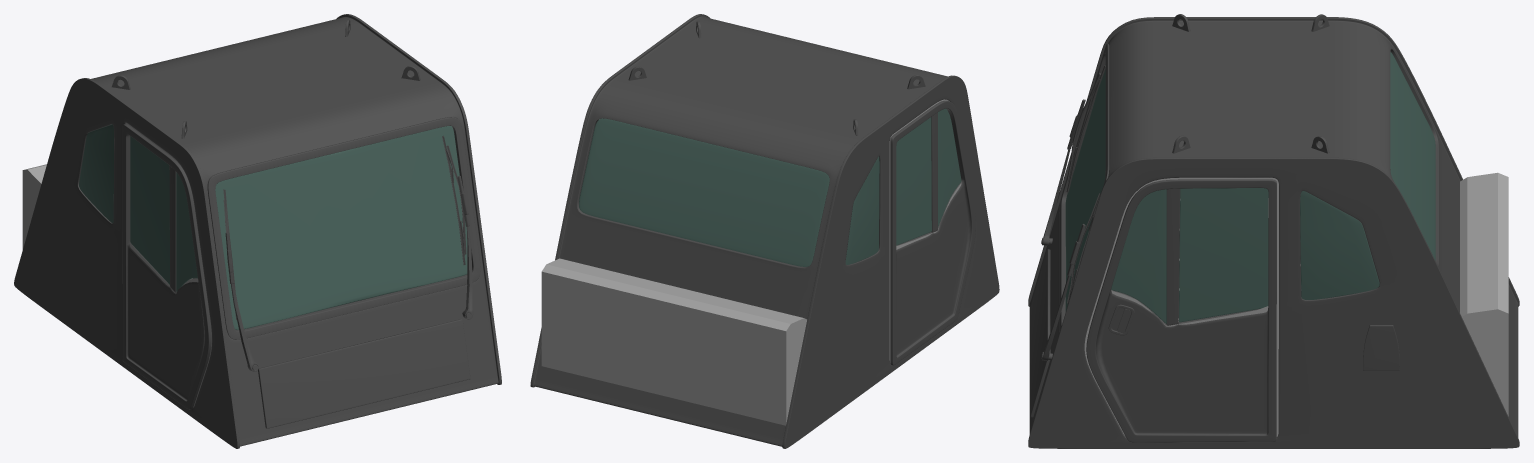
File: Caterpillar_793-F_Cabina.glb
3 views of the same model, side by side, from view 1: azimuth 30°, elevation 25°; view 2: azimuth 150°, elevation 25°; view 3: azimuth 270°, elevation 25° (orthographic). The views are drawn at different scales.
Visible parts, largest first — view 1: car_base, window_f, window_s, wipers, salon.001, detal7, salon; view 2: car_base, salon.001, window_b, window_s, salon, detal7; view 3: car_base, window_s, salon.001, window_b, window_f, wipers, salon, detal7, handle.
Boxes of the visible parts, x1,y1,x2,y2 form: car_base: (14,14,501,448); window_f: (215,126,467,329); window_s: (79,124,197,291); wipers: (223,135,473,371); salon.001: (22,164,192,278); detal7: (112,19,420,138); salon: (125,123,211,407); car_base: (530,14,999,448); salon.001: (541,258,806,425); window_b: (579,118,829,266); window_s: (845,108,961,264); salon: (599,99,961,362); detal7: (628,21,925,135); car_base: (1028,17,1519,448); window_s: (1111,188,1379,323); salon.001: (1179,172,1508,416); window_b: (1390,52,1435,260); window_f: (1065,64,1105,311); wipers: (1041,65,1105,360); salon: (1084,177,1278,436); detal7: (1172,14,1329,153); handle: (1108,304,1134,335).
Bounding box in the file's own units: 165 × 160 × 237.
